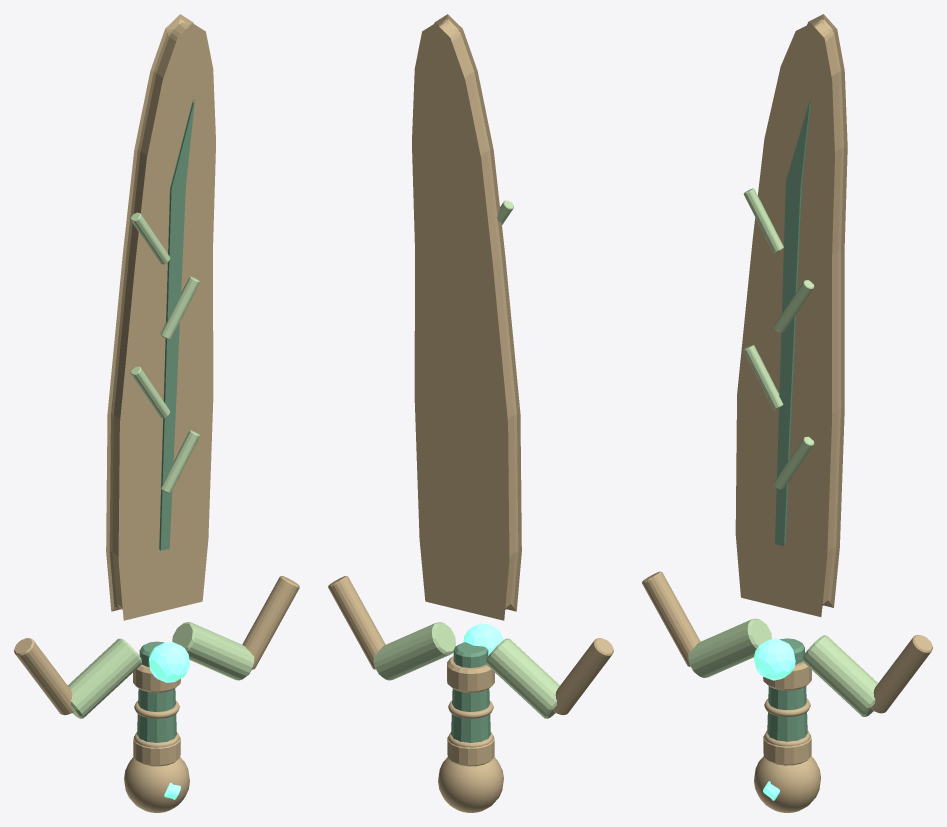
The model's file is warrior-sword-04-verdant.glb.
The picture shows the model from 3 angles, left to right: view 1: azimuth 30°, elevation 25°; view 2: azimuth 150°, elevation 25°; view 3: azimuth 330°, elevation 25°; orthographic projection.
Visible parts, largest first — view 1: warrior-sword-04-verdant_ForgedBlade, warrior-sword-04-verdant_ColoredFuller, warrior-sword-04-verdant_Guard_Left, warrior-sword-04-verdant_Guard_Right, warrior-sword-04-verdant_Pommel, warrior-sword-04-verdant_Guard_RightTip, warrior-sword-04-verdant_LeatherGrip, warrior-sword-04-verdant_Guard_LeftTip, warrior-sword-04-verdant_GuardGem, warrior-sword-04-verdant_LowerFerrule, warrior-sword-04-verdant_VineRidge_1, warrior-sword-04-verdant_VineRidge_3 (+3 smaller); view 2: warrior-sword-04-verdant_ForgedBlade, warrior-sword-04-verdant_Guard_Left, warrior-sword-04-verdant_Guard_Right, warrior-sword-04-verdant_Pommel, warrior-sword-04-verdant_LeatherGrip, warrior-sword-04-verdant_Guard_RightTip, warrior-sword-04-verdant_Guard_LeftTip, warrior-sword-04-verdant_UpperFerrule, warrior-sword-04-verdant_LowerFerrule, warrior-sword-04-verdant_GuardGem; view 3: warrior-sword-04-verdant_ForgedBlade, warrior-sword-04-verdant_ColoredFuller, warrior-sword-04-verdant_Guard_Right, warrior-sword-04-verdant_Guard_Left, warrior-sword-04-verdant_Pommel, warrior-sword-04-verdant_LeatherGrip, warrior-sword-04-verdant_Guard_LeftTip, warrior-sword-04-verdant_Guard_RightTip, warrior-sword-04-verdant_GuardGem, warrior-sword-04-verdant_LowerFerrule, warrior-sword-04-verdant_VineRidge_4, warrior-sword-04-verdant_VineRidge_2 (+3 smaller).
Part boxes in pixels (x1,y1,x2,y2): warrior-sword-04-verdant_ForgedBlade: (106, 14, 215, 620); warrior-sword-04-verdant_ColoredFuller: (159, 97, 194, 550); warrior-sword-04-verdant_Guard_Left: (68, 638, 141, 718); warrior-sword-04-verdant_Guard_Right: (172, 622, 254, 680); warrior-sword-04-verdant_Pommel: (124, 757, 189, 812); warrior-sword-04-verdant_Guard_RightTip: (242, 576, 299, 669); warrior-sword-04-verdant_LeatherGrip: (137, 641, 176, 742); warrior-sword-04-verdant_Guard_LeftTip: (14, 638, 74, 715); warrior-sword-04-verdant_GuardGem: (149, 642, 189, 682); warrior-sword-04-verdant_LowerFerrule: (133, 736, 180, 766); warrior-sword-04-verdant_VineRidge_1: (160, 430, 199, 493); warrior-sword-04-verdant_VineRidge_3: (160, 276, 199, 339); warrior-sword-04-verdant_ForgedBlade: (412, 14, 521, 620); warrior-sword-04-verdant_Guard_Left: (486, 638, 559, 718); warrior-sword-04-verdant_Guard_Right: (373, 622, 455, 680); warrior-sword-04-verdant_Pommel: (438, 757, 503, 812); warrior-sword-04-verdant_LeatherGrip: (451, 642, 490, 742); warrior-sword-04-verdant_Guard_RightTip: (328, 576, 385, 669); warrior-sword-04-verdant_Guard_LeftTip: (553, 638, 613, 715); warrior-sword-04-verdant_UpperFerrule: (447, 656, 494, 692); warrior-sword-04-verdant_LowerFerrule: (447, 736, 494, 766); warrior-sword-04-verdant_GuardGem: (463, 623, 503, 655); warrior-sword-04-verdant_ForgedBlade: (735, 14, 847, 616); warrior-sword-04-verdant_ColoredFuller: (775, 99, 811, 546); warrior-sword-04-verdant_Guard_Right: (802, 635, 878, 716); warrior-sword-04-verdant_Guard_Left: (688, 618, 771, 677); warrior-sword-04-verdant_Pommel: (754, 756, 820, 812); warrior-sword-04-verdant_LeatherGrip: (767, 638, 807, 741); warrior-sword-04-verdant_Guard_LeftTip: (642, 571, 700, 666); warrior-sword-04-verdant_Guard_RightTip: (871, 635, 932, 713); warrior-sword-04-verdant_GuardGem: (754, 638, 795, 680); warrior-sword-04-verdant_LowerFerrule: (763, 734, 811, 765); warrior-sword-04-verdant_VineRidge_4: (743, 188, 783, 252); warrior-sword-04-verdant_VineRidge_2: (743, 345, 783, 409).
Bounding box in the file's own units: 0.6287 × 1.67 × 0.15.
